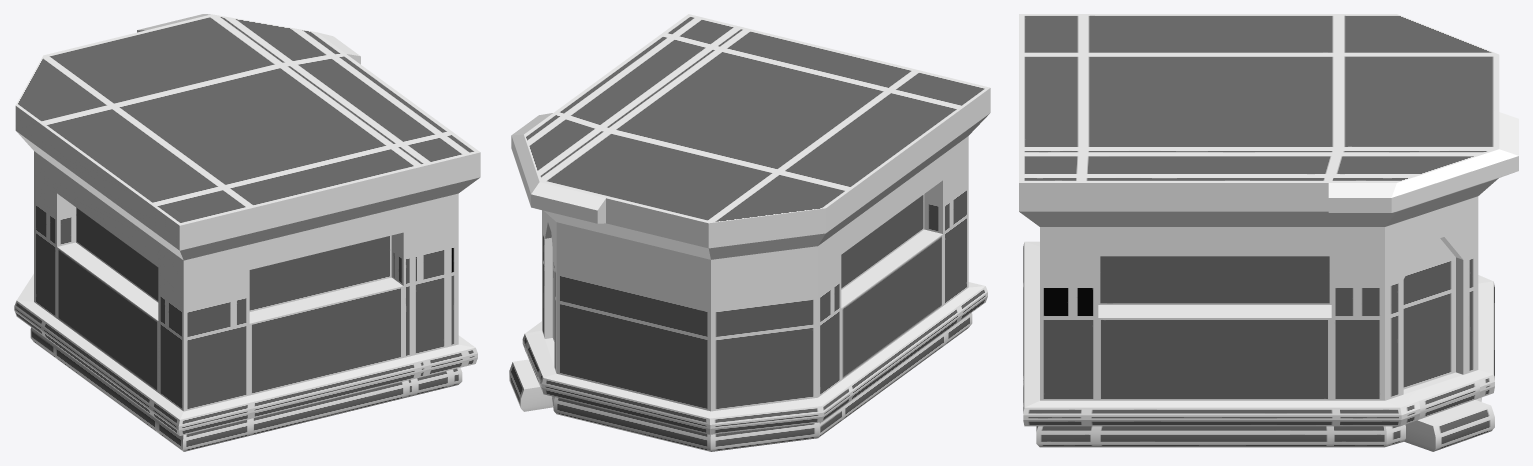
The model's file is BuildingGGJ.fbx.
3 views of the same model, side by side, from view 1: azimuth 30°, elevation 25°; view 2: azimuth 150°, elevation 25°; view 3: azimuth 270°, elevation 25° (orthographic). The views are drawn at different scales.
Parts seen in each view (by area): view 1: pCube17; view 2: pCube17; view 3: pCube17.
Boxes of the visible parts, x1,y1,x2,y2 form: pCube17: (14,14,480,451); pCube17: (509,14,990,451); pCube17: (1019,14,1518,451).
Bounding box in the file's own units: 16.26 × 11.62 × 19.39.
